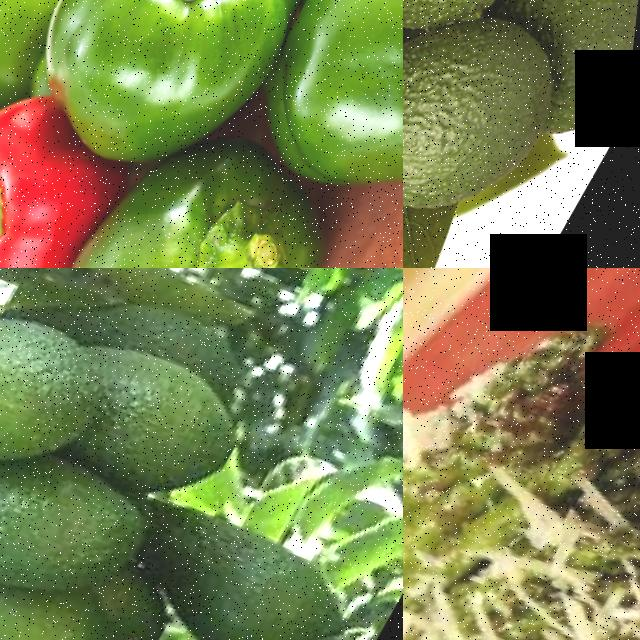avocado: (0, 304, 284, 551), (72, 447, 403, 640), (403, 0, 596, 266), (0, 394, 188, 640), (26, 268, 278, 422), (0, 268, 142, 518), (449, 0, 640, 176), (0, 488, 164, 640), (403, 0, 599, 101)
bell pepper: (23, 0, 330, 151), (231, 0, 403, 234), (37, 172, 364, 268), (0, 90, 123, 268)
